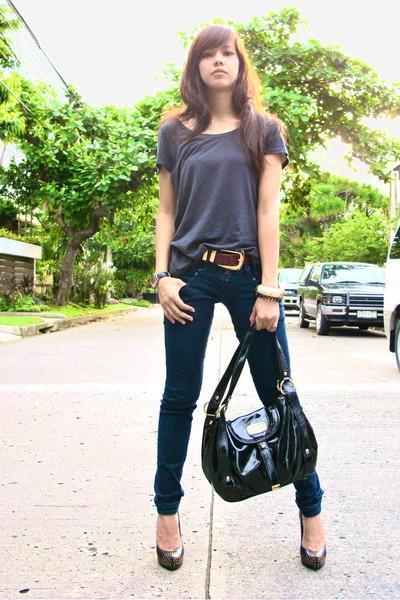short sleeve shirt: (154, 107, 291, 274)
trousers: (143, 250, 328, 523)
